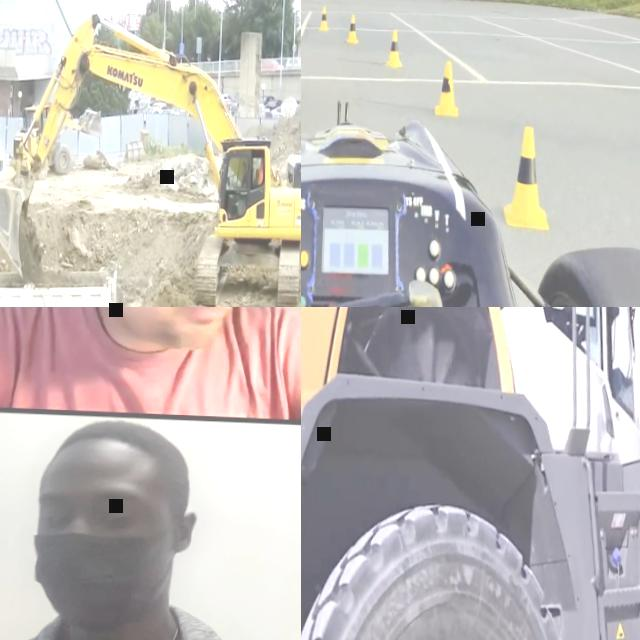machinery: (301, 307, 640, 640), (0, 6, 301, 307), (0, 238, 128, 307), (13, 102, 104, 178)
no_helmet: (38, 416, 192, 483)
no_mask: (25, 528, 179, 635), (110, 307, 238, 354), (242, 168, 245, 174)
no_vest: (0, 307, 301, 417), (242, 174, 248, 189), (242, 162, 248, 169)
person: (0, 409, 301, 640), (0, 307, 301, 425), (227, 161, 249, 218), (538, 307, 573, 324)
safety_cone: (505, 122, 554, 234), (436, 60, 459, 119), (388, 26, 405, 68), (346, 13, 359, 46), (320, 4, 330, 34)
vehicle: (301, 91, 640, 307), (130, 90, 148, 106), (262, 58, 284, 70), (266, 98, 283, 110), (138, 102, 154, 114), (153, 102, 170, 112), (287, 56, 301, 68), (260, 95, 275, 105), (144, 105, 160, 114), (222, 93, 233, 105), (272, 106, 282, 114), (160, 109, 174, 114)
